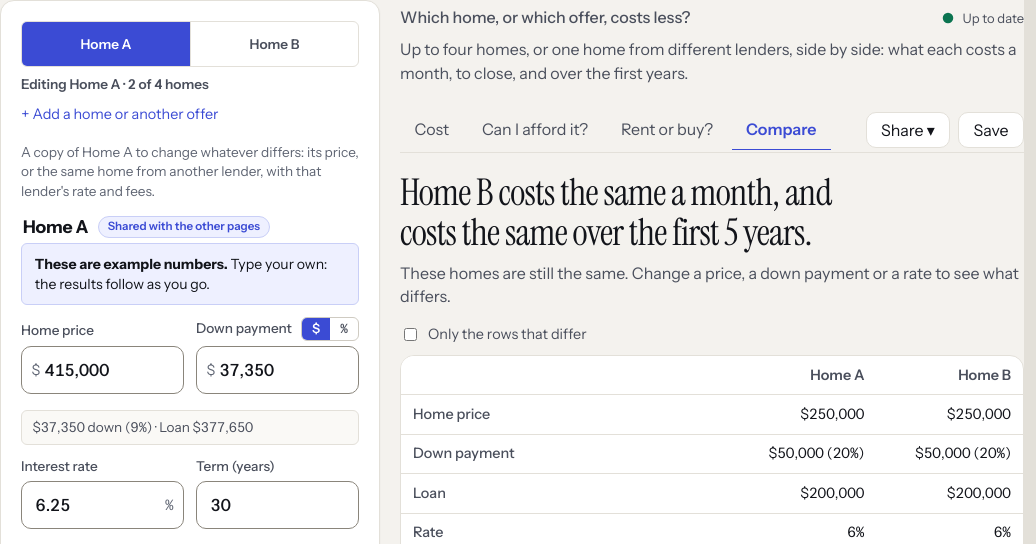
Test case: ComparePageComponent › adds homes up to four, each a copy of Home A to edit, then offers no more
Click the button with test id "add-home" at (120,115), box [21,95,218,135]
Wait 400 ms
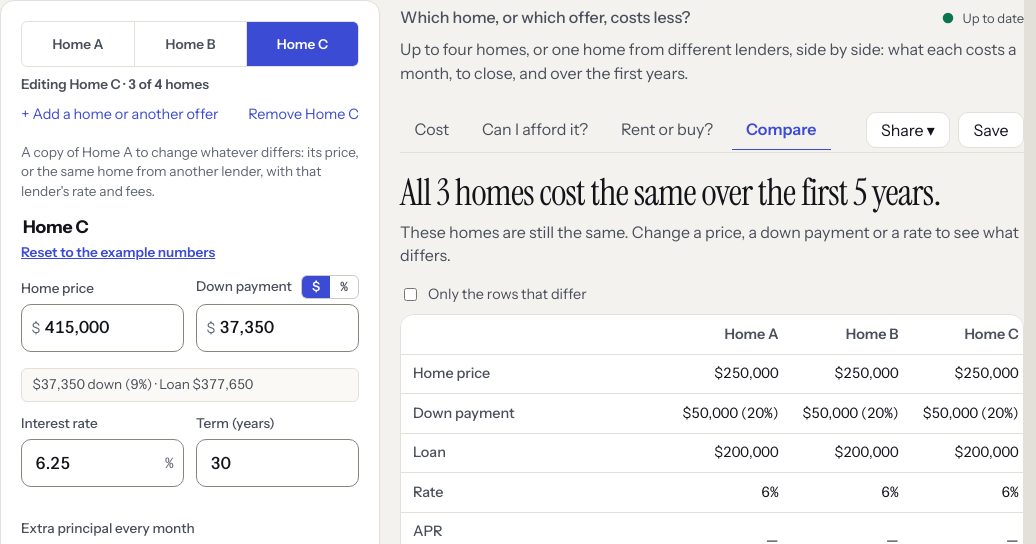
expect the text with test id "loan-heading" reads "Home C": met, box [23,216,89,237]
Replace the text in the field with test id "home-price" with "380000" at (102,328), box [21,304,184,352]
Wait 400 ms
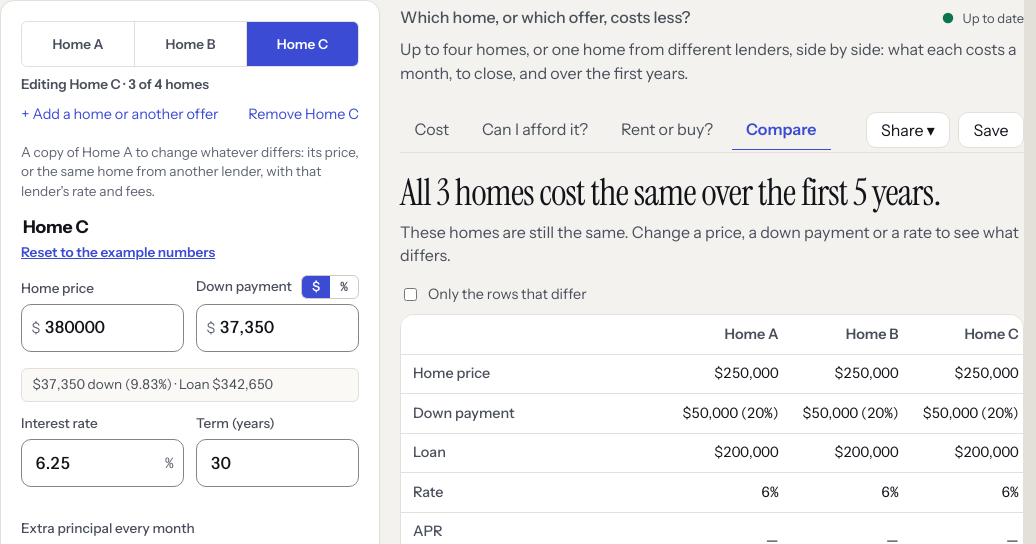
Click the button with test id "add-home" at (120,115), box [21,95,218,135]
Wait 400 ms
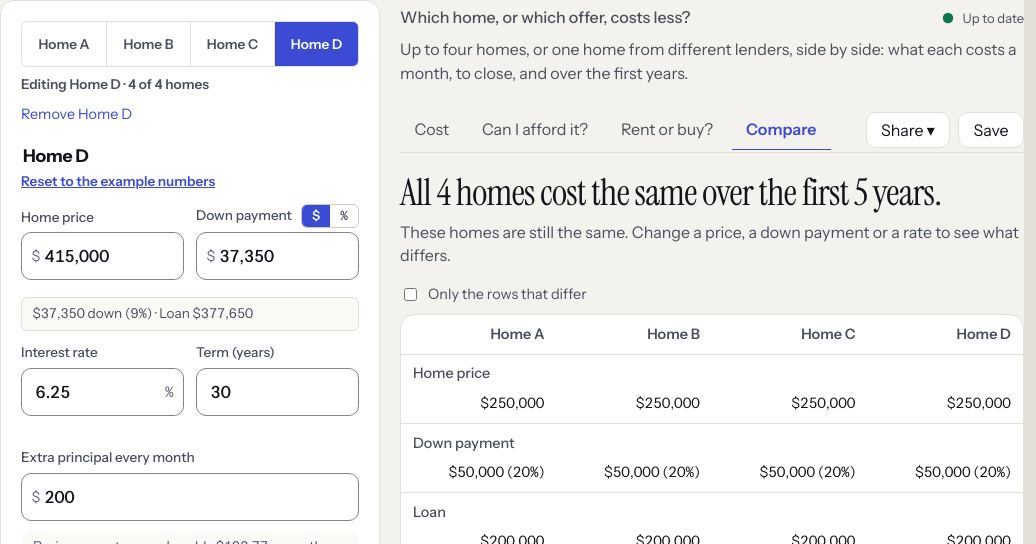
expect the text with test id "loan-heading" reads "Home D": met, box [23,145,89,166]
expect the radio button with test id "edit-home-d" is shown: met, box [274,22,358,66]
expect the button with test id "add-home" is gone: met
